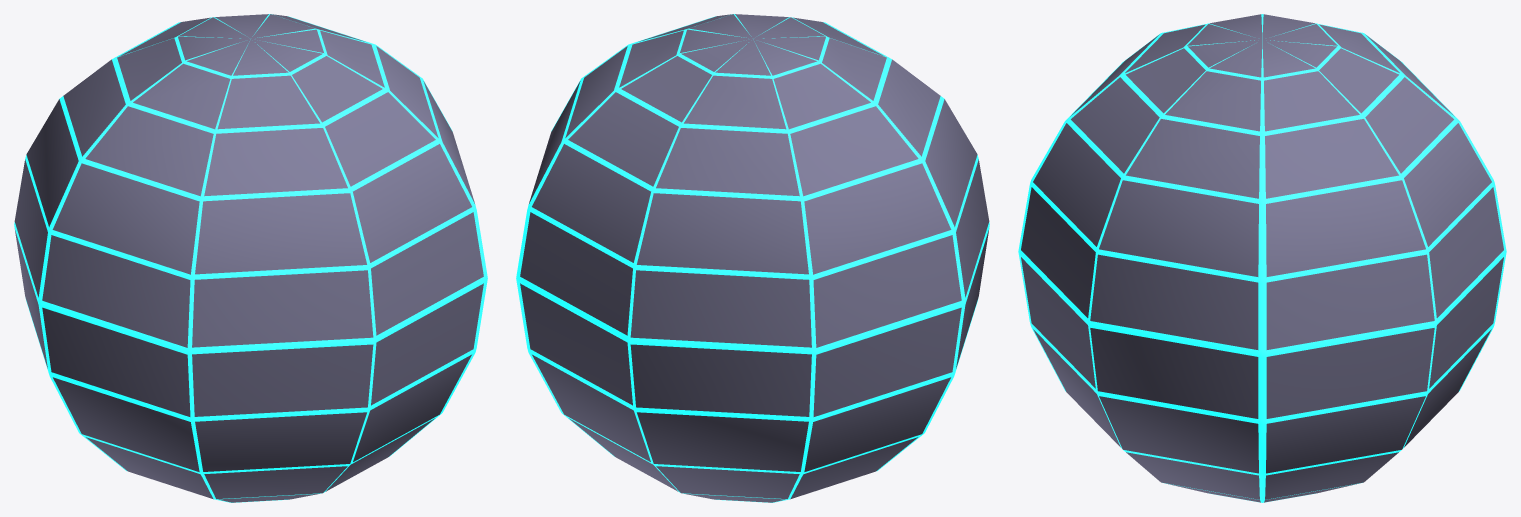
Rendered from Stone.fbx.
The picture shows the model from 3 angles, left to right: view 1: azimuth 30°, elevation 25°; view 2: azimuth 150°, elevation 25°; view 3: azimuth 270°, elevation 25°; orthographic projection.
Visible parts, largest first — view 1: Stone; view 2: Stone; view 3: Stone.
Boxes of the visible parts, bbox=[...] form: Stone: bbox=[14, 14, 487, 502]; Stone: bbox=[516, 14, 989, 502]; Stone: bbox=[1018, 14, 1506, 502].
Bounding box in the file's own units: 2 × 1.98 × 2.
